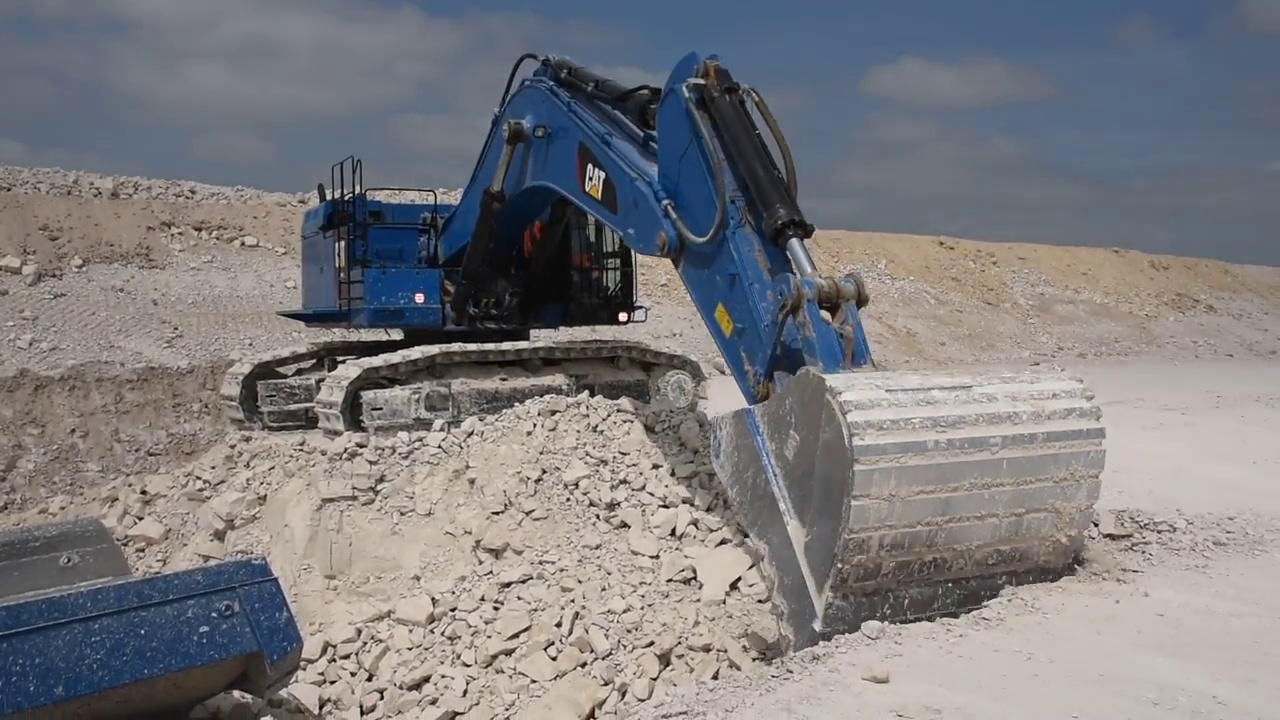dumper: (3, 516, 307, 718)
excavator: (218, 48, 1111, 645)
